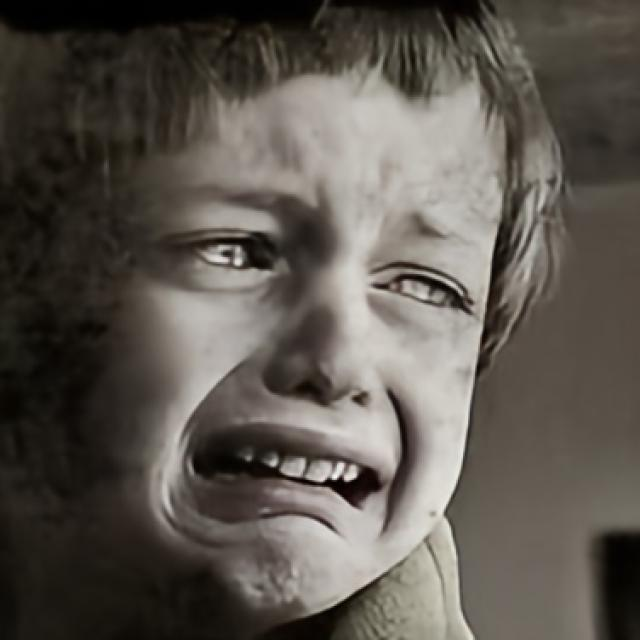sad: (28, 45, 508, 626)
